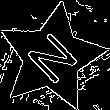N_SE: (20, 25, 84, 90)
